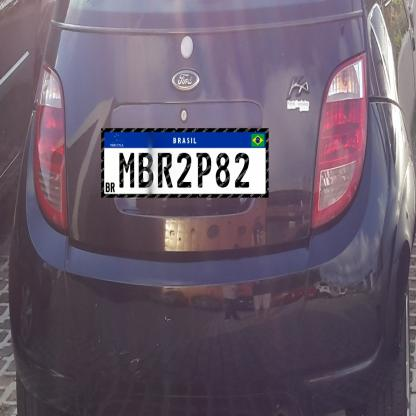PlacaM: (101, 128, 269, 198)
